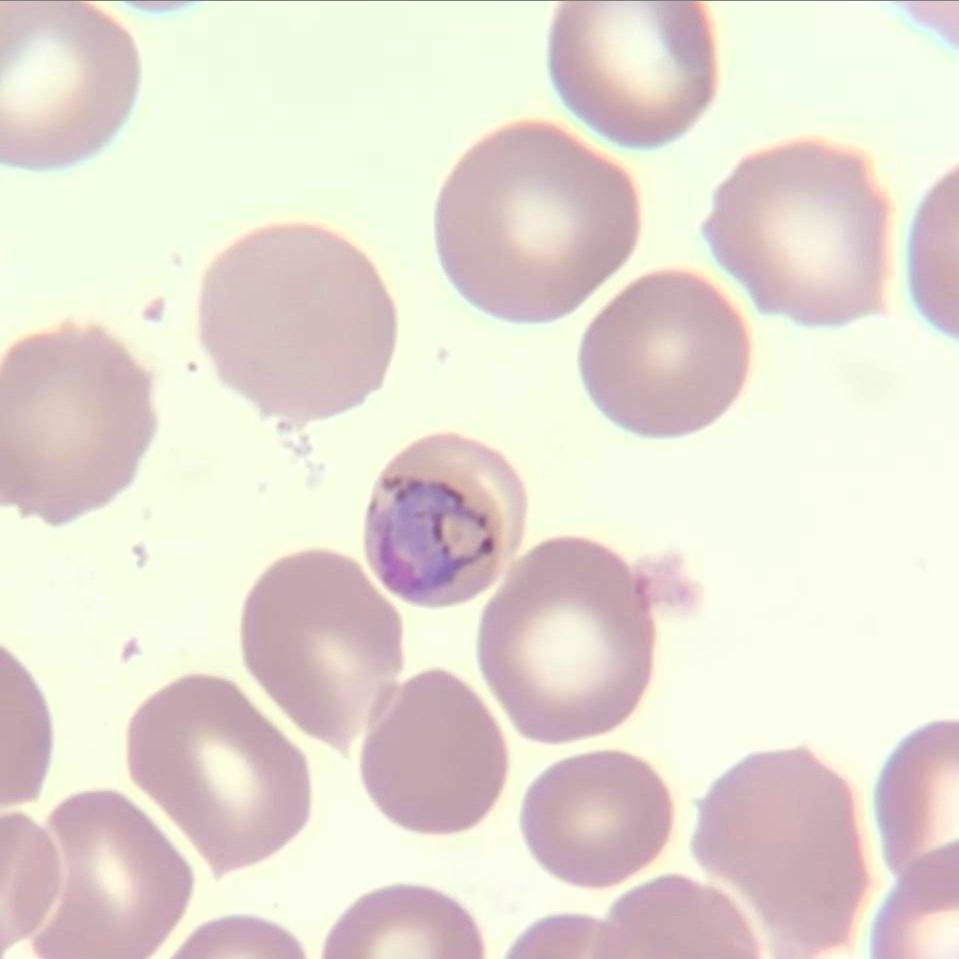Infected: (360, 434, 532, 606)
Uninfected: (432, 118, 639, 323), (200, 220, 399, 422), (686, 746, 867, 959), (476, 536, 655, 743), (126, 676, 311, 865), (706, 137, 887, 324), (238, 546, 402, 745), (0, 324, 149, 524), (580, 268, 748, 435), (26, 790, 191, 959), (544, 0, 719, 153), (354, 668, 510, 834), (0, 0, 143, 169), (522, 752, 671, 889)
